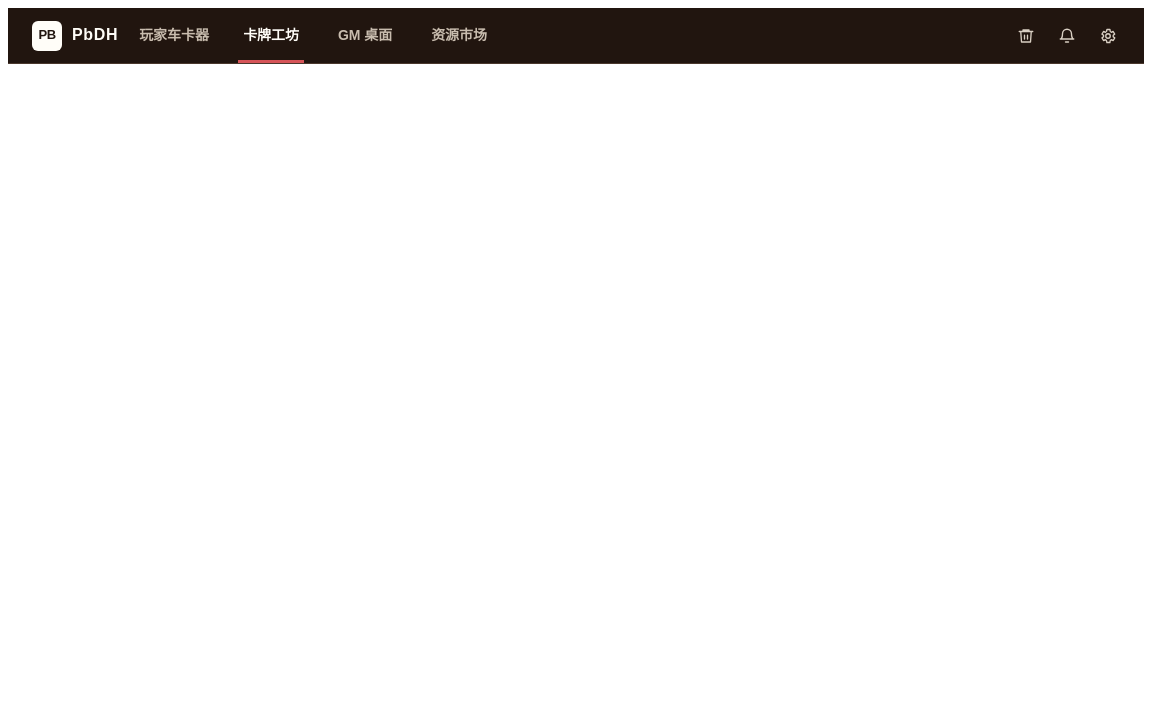
Test case: 全部来源失败时显示读取失败而不是空回收站，刷新后可恢复
The image size is (1152, 720).
Click the button named "回收站".
click(1026, 36)  # box [1008, 18, 1044, 52]
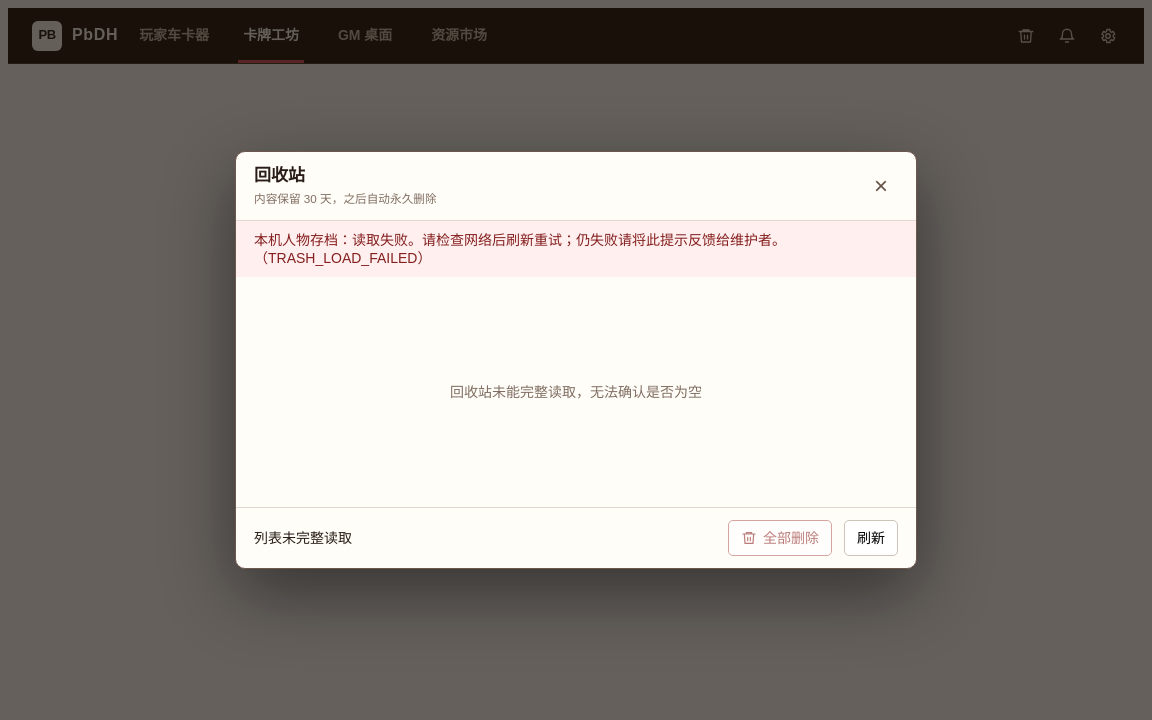
Check: the text "回收站为空" is not shown
Check: the text "0 项" is not shown
Click the button "刷新".
click(871, 538)  # box [844, 520, 898, 556]
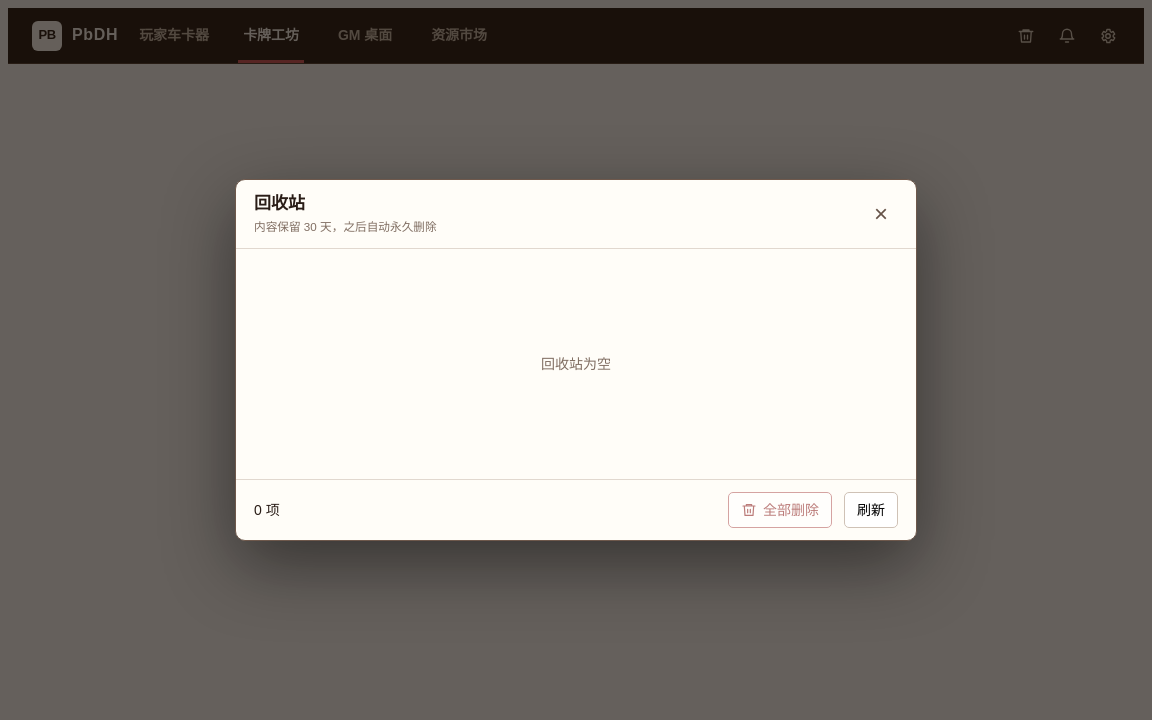
Check: the text "回收站为空" is shown, box [541, 356, 611, 372]
